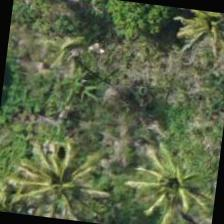Kelapa_Sawit: (10, 136, 109, 223)
